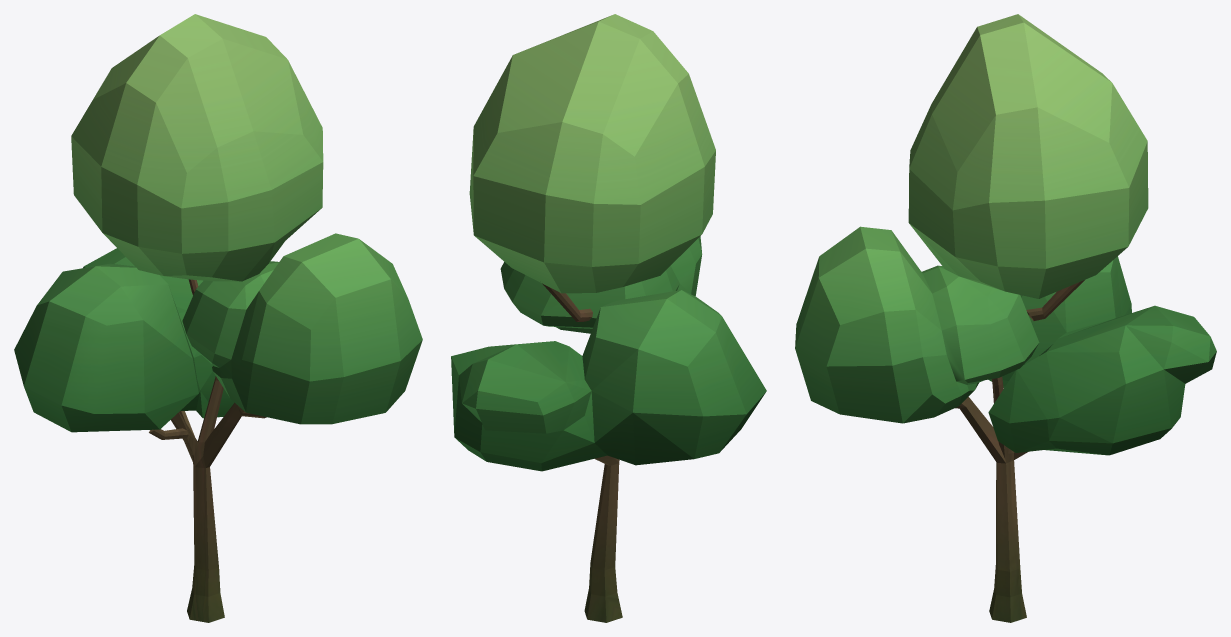
The model's file is TER_TreeNormal.glb.
3 views of the same model, side by side, from view 1: azimuth 30°, elevation 25°; view 2: azimuth 150°, elevation 25°; view 3: azimuth 270°, elevation 25° (orthographic).
Visible parts, largest first — view 1: TER_TreeNormal; view 2: TER_TreeNormal; view 3: TER_TreeNormal.
Boxes of the visible parts, x1,y1,x2,y2 form: TER_TreeNormal: (14, 14, 422, 622); TER_TreeNormal: (451, 14, 766, 622); TER_TreeNormal: (795, 14, 1216, 622).
Size of the model in its own units: 10.92 by 20.58 by 13.33.
1 material, 1 textured.
